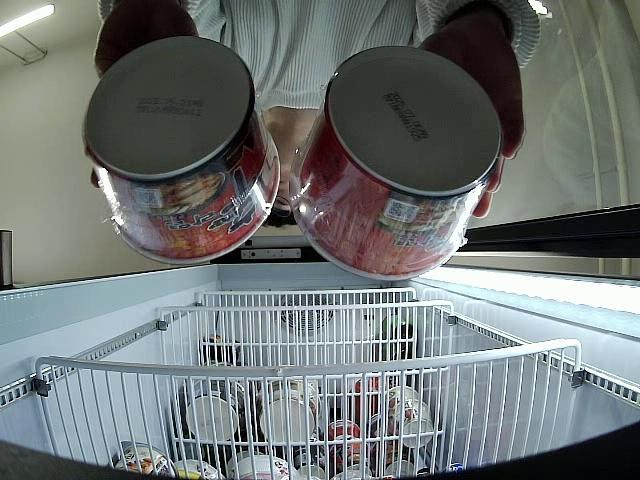01_ShinRamen_L: (288, 45, 504, 280), (81, 37, 282, 264)
